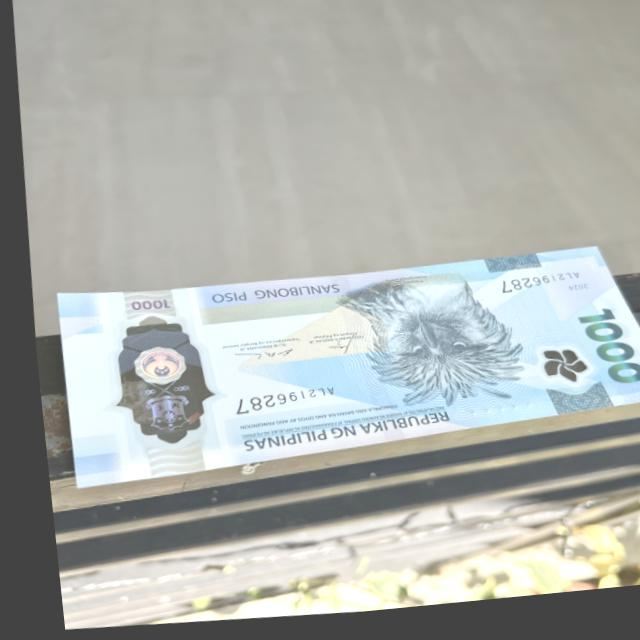clear_window: (87, 308, 209, 454)
eagle: (346, 279, 514, 406)
sampaguita: (525, 352, 581, 394)
serial_number: (214, 376, 341, 419)
